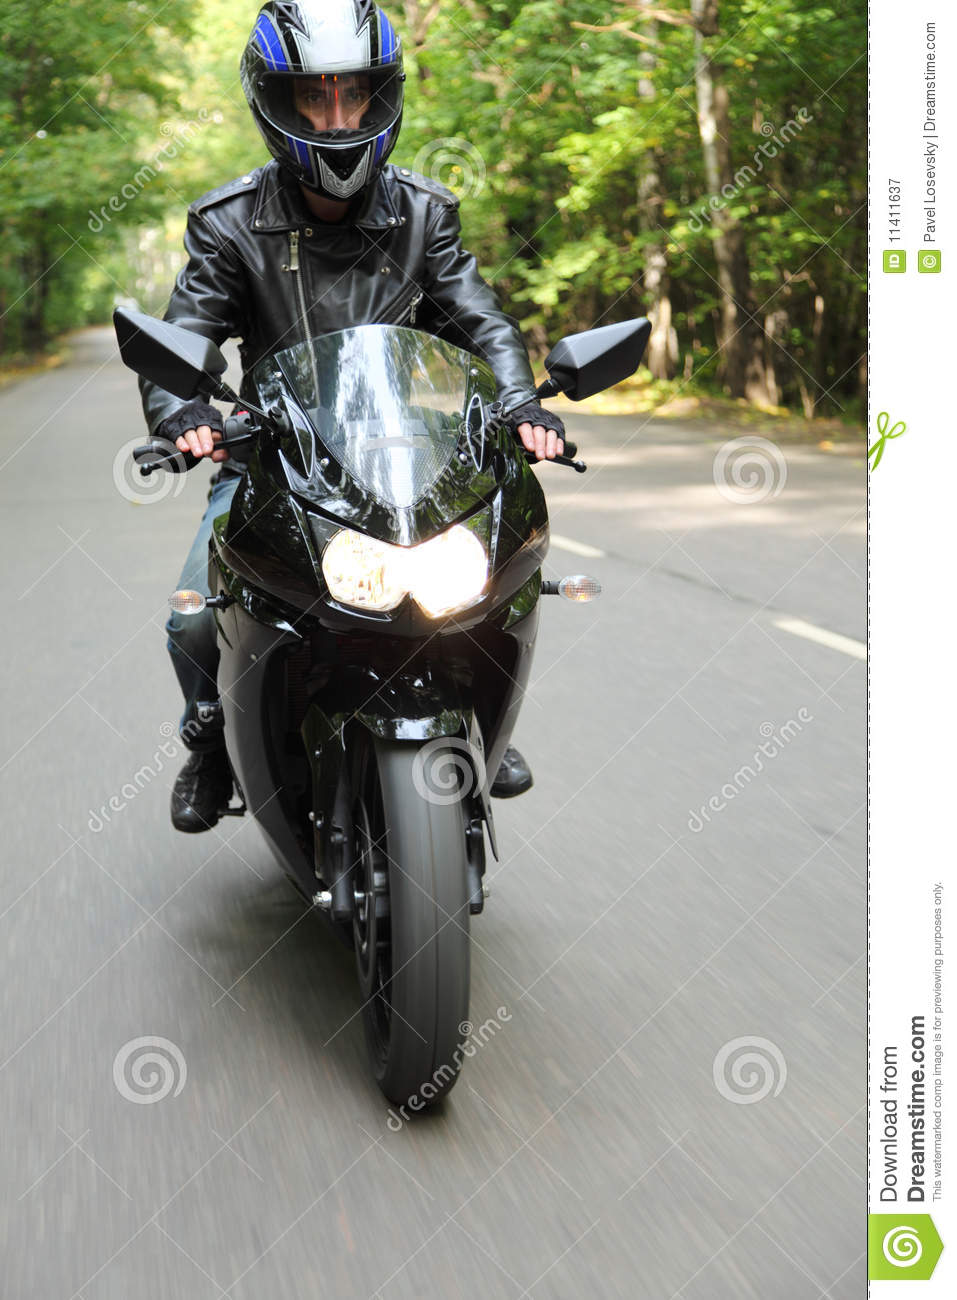helmet: (238, 9, 410, 167)
